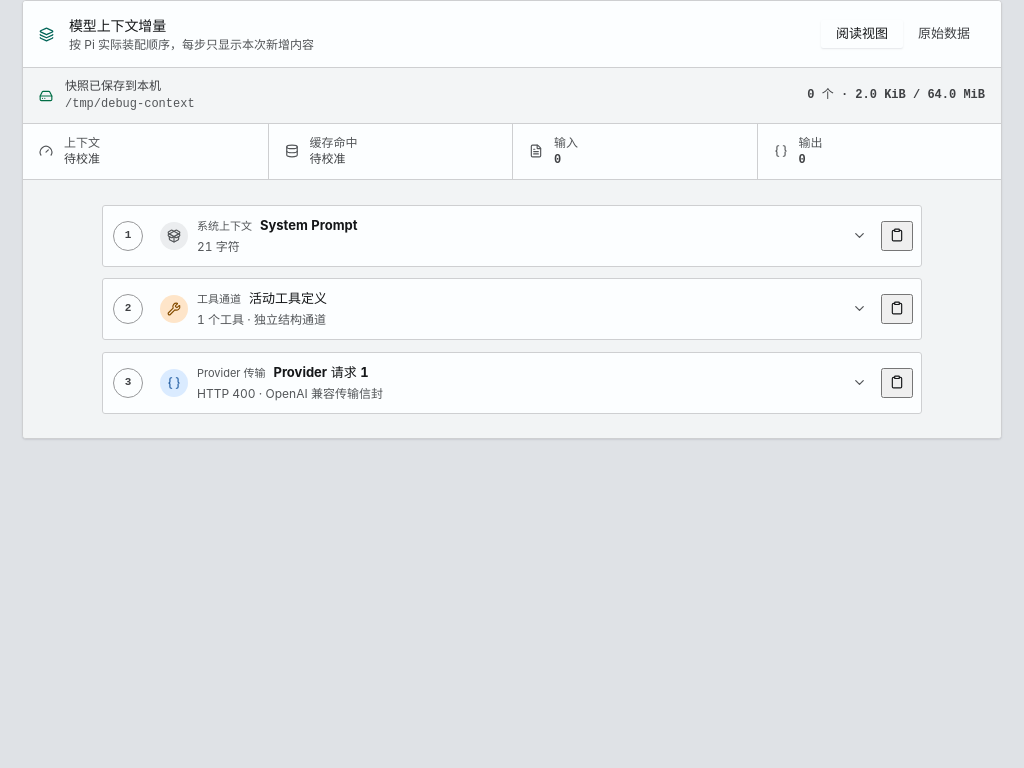
Scenario: DebugContextInspector › keeps the exact provider payload visible when the provider returns an error
Step 1. Click the button with aria-label "展开Provider 请求 1" → click(231, 373), box [155,360,873,405]
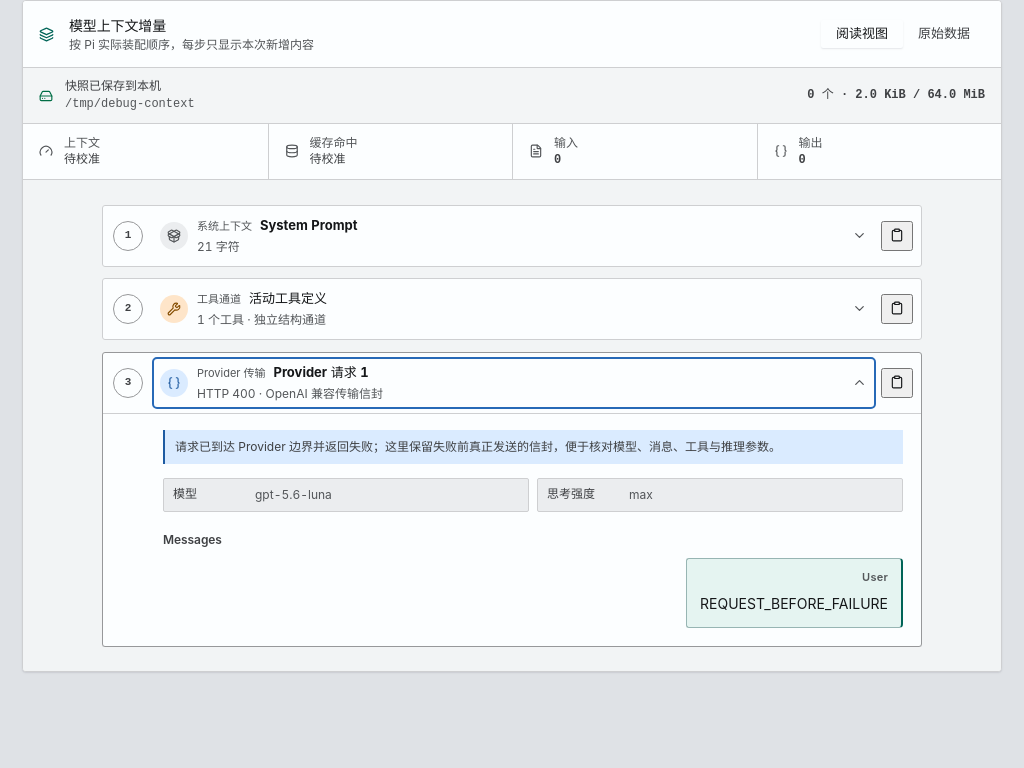
expect the text "REQUEST_BEFORE_FAILURE" is shown: met, box [700,592,888,615]
expect the text "请求已到达 Provider 边界并返回失败；这里保留失败前真正发送的信封，便于核对模型、消息、工具与推理参数。" is shown: met, box [163,429,903,464]
